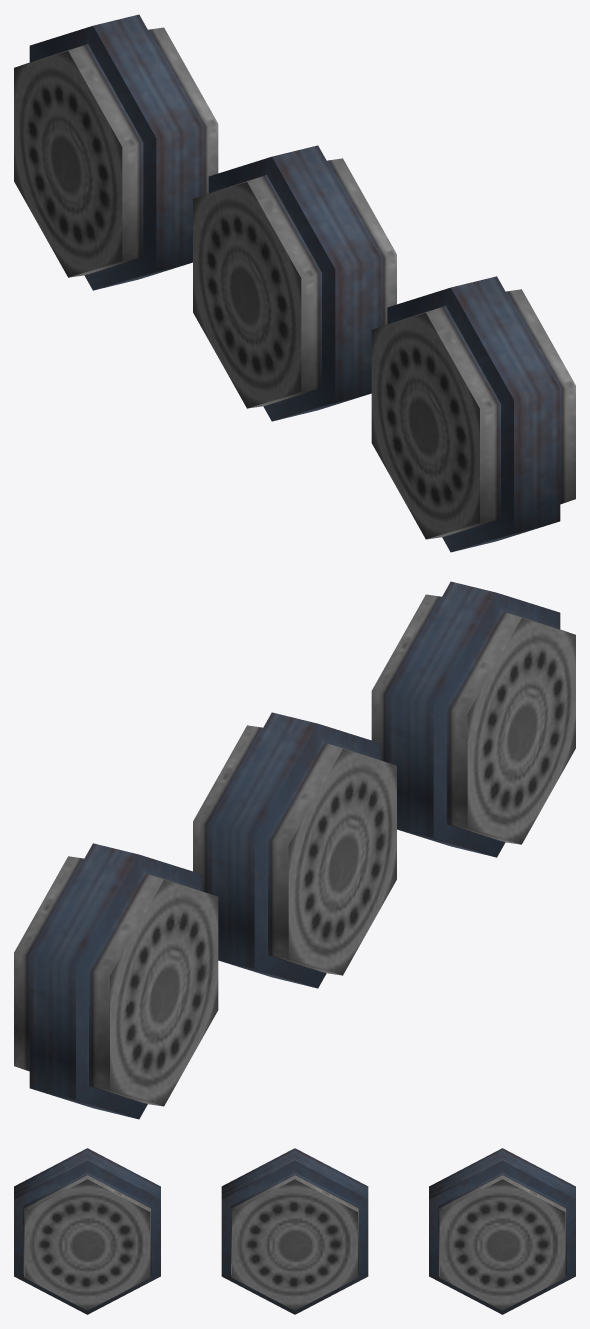
The model's file is Pipe3_Connect2_L1.fbx.
3 views of the same model, one above another, from view 1: azimuth 30°, elevation 25°; view 2: azimuth 150°, elevation 25°; view 3: azimuth 270°, elevation 25° (orthographic). The views are drawn at different scales.
Visible parts, largest first — view 1: PIpe3_Connect_2_L1; view 2: PIpe3_Connect_2_L1; view 3: PIpe3_Connect_2_L1.
Boxes of the visible parts, <box> form: PIpe3_Connect_2_L1: <box>14,14,575,552</box>; PIpe3_Connect_2_L1: <box>14,581,575,1119</box>; PIpe3_Connect_2_L1: <box>14,1148,575,1314</box>.
Size of the model in its own units: 5.35 by 13.62 by 45.12.
